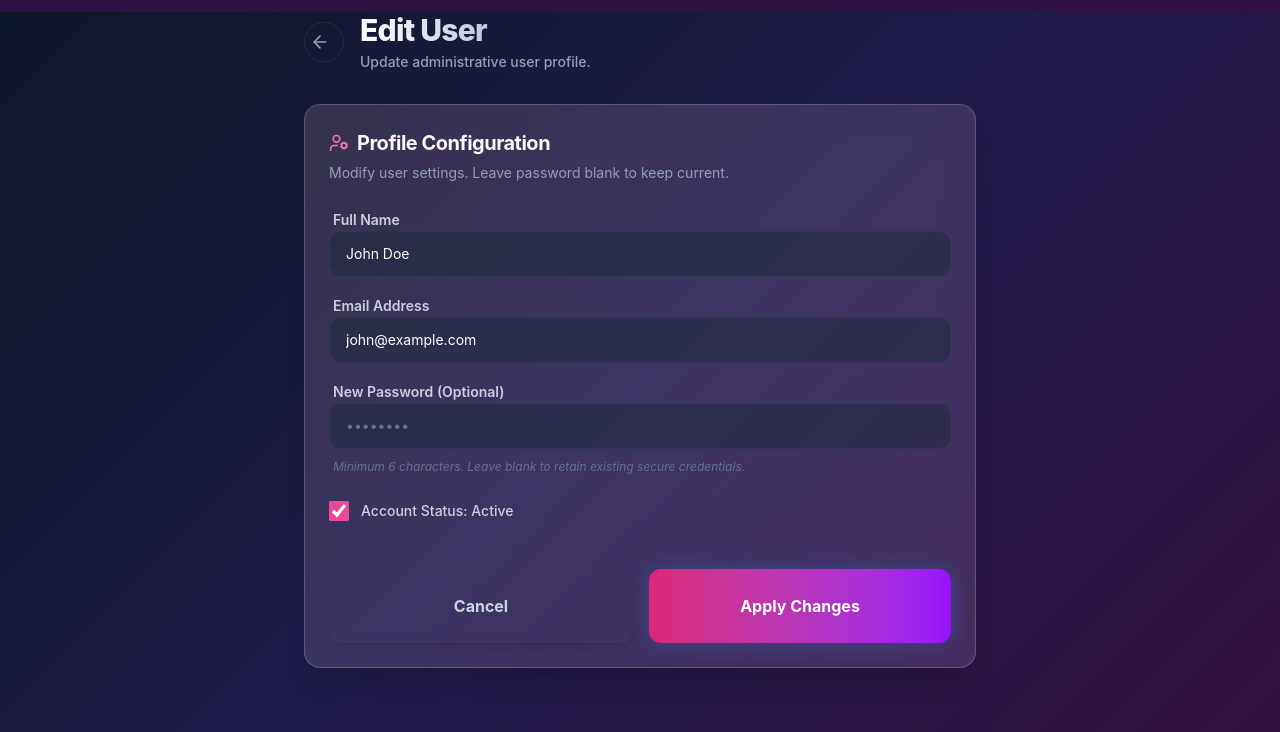
it: UserEdit Component › shows error message when update fails
This screenshot has width=1280, height=732.
Replace the text in the field labelled "Full Name" with "Jane Doe" at (640, 254), box [329,231,951,277]
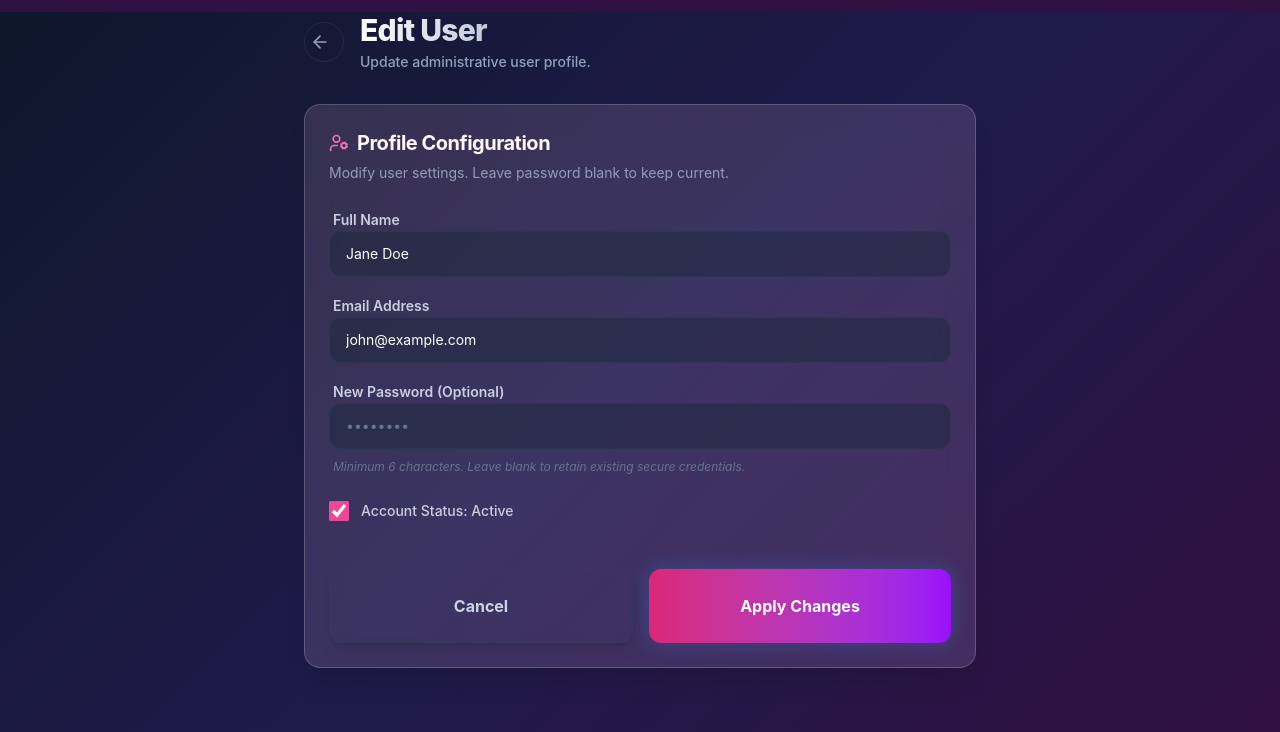
Click the button "Apply Changes" at (800, 606), box [649,568,951,642]
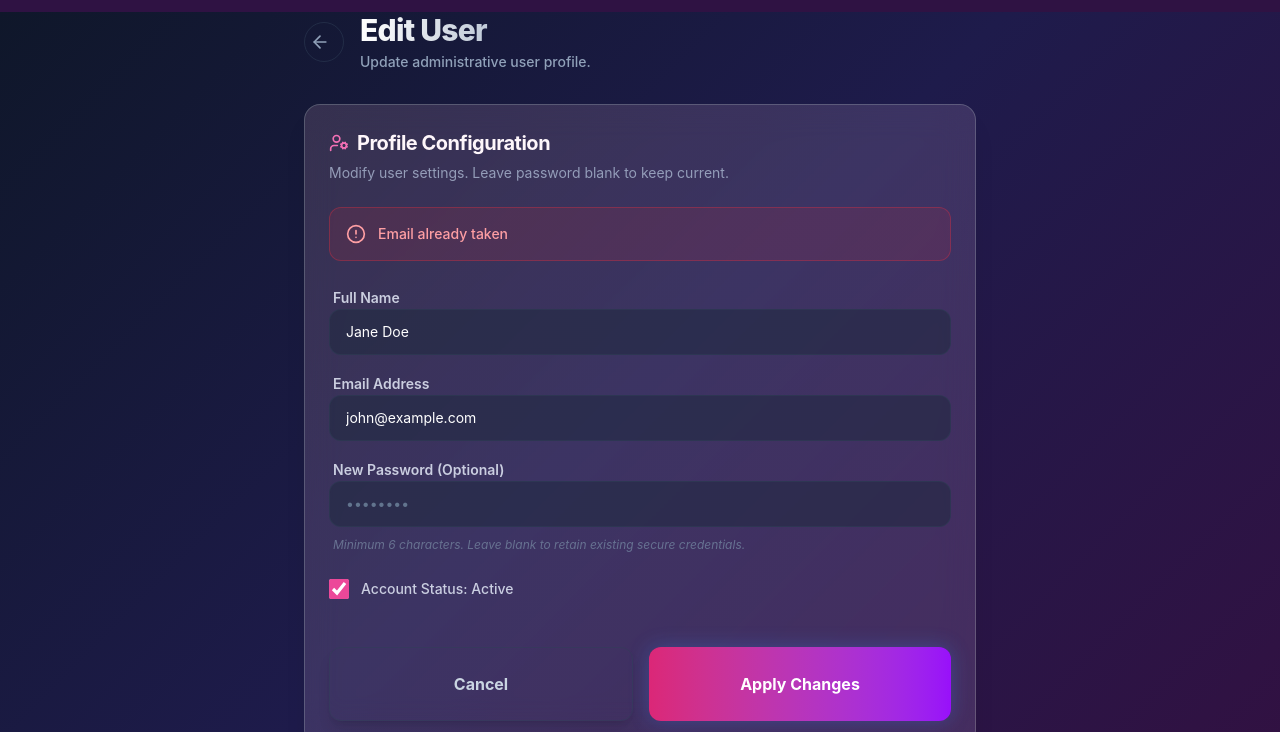
Expected: the text "Email already taken" is shown, [378,224,508,244]
